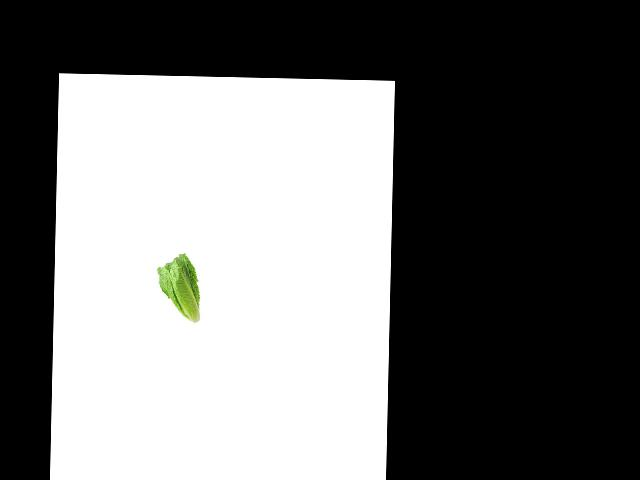lettuce: (155, 252, 202, 329)
